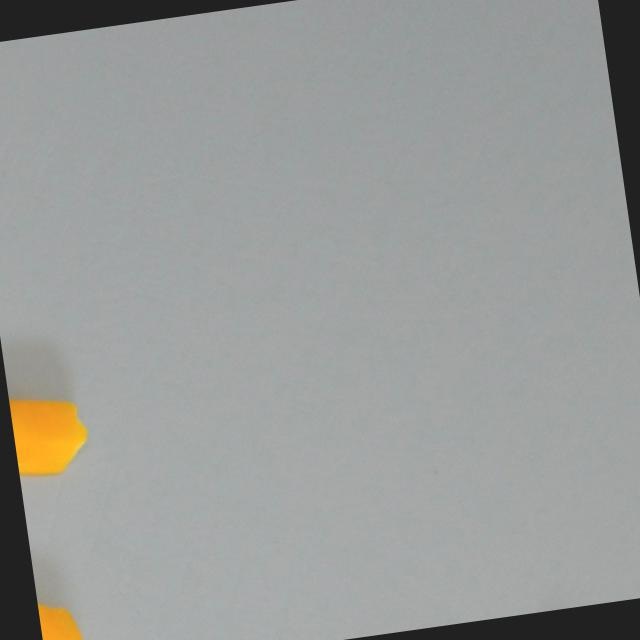estandar: (8, 387, 93, 478), (36, 592, 87, 640)
